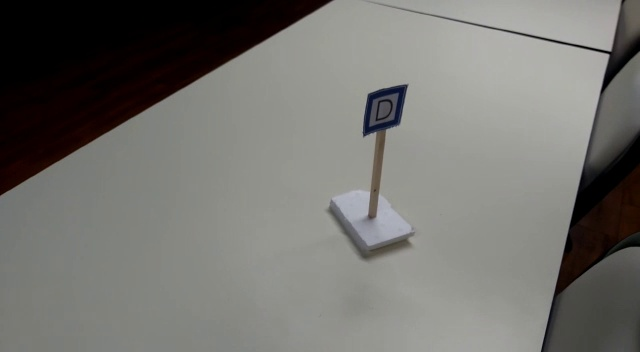durak: (362, 84, 407, 135)
